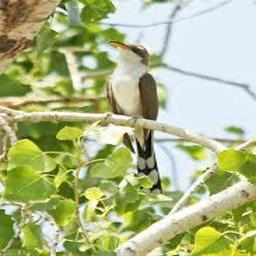Cuckoo: (105, 41, 164, 197)
